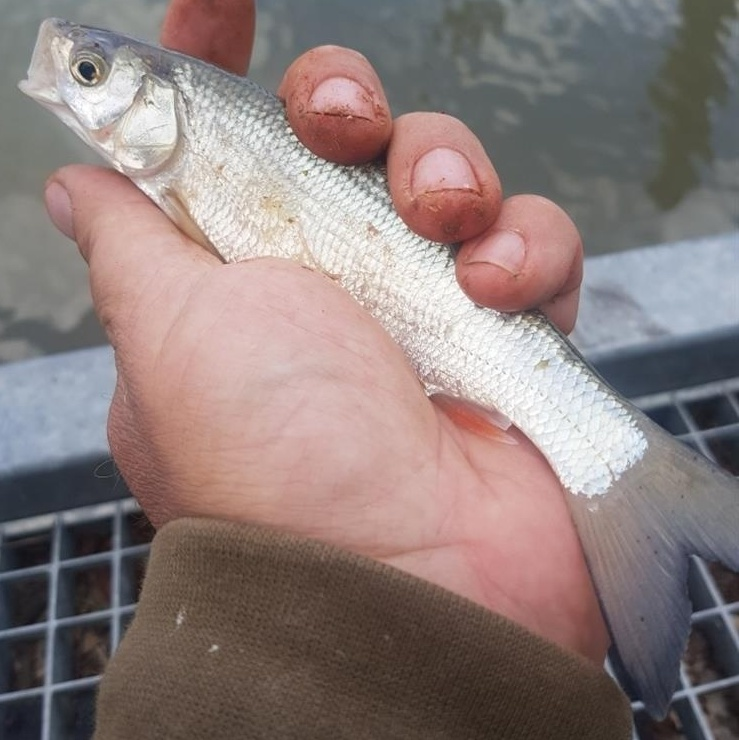Aspius aspius: (20, 20, 739, 720)
